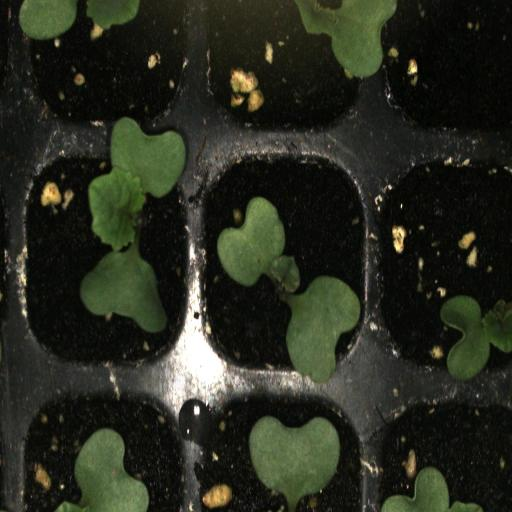Folha: (249, 416, 340, 508), (56, 428, 149, 512), (379, 466, 483, 512)
Germinacao: (192, 142, 372, 378), (15, 142, 192, 371)
